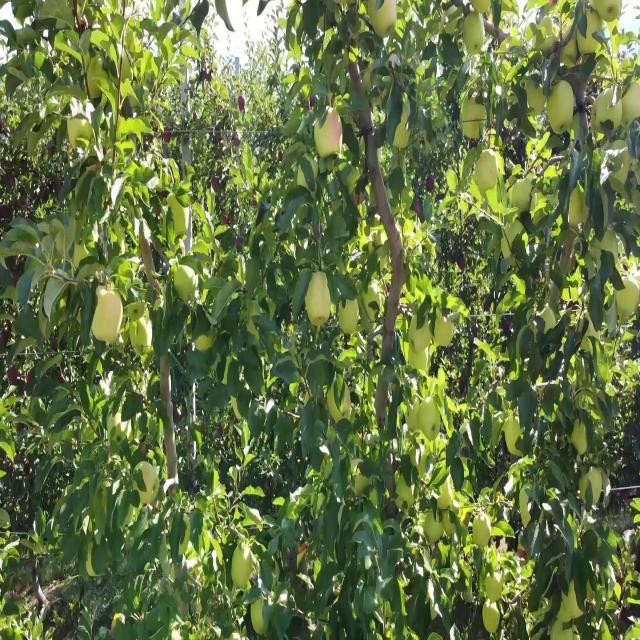apple: (92, 284, 124, 341), (304, 277, 336, 327), (548, 85, 576, 135), (316, 113, 344, 160), (476, 149, 504, 194), (592, 99, 615, 144), (232, 547, 256, 590), (580, 14, 603, 57), (608, 149, 632, 190), (372, 0, 397, 39), (468, 7, 490, 50), (464, 14, 485, 57), (560, 583, 583, 622), (616, 284, 640, 320), (560, 35, 583, 71), (568, 191, 589, 228), (176, 270, 198, 304), (140, 469, 159, 508), (132, 312, 151, 350), (340, 298, 360, 334), (436, 312, 456, 348), (72, 241, 95, 272), (564, 583, 583, 619), (540, 21, 557, 57), (624, 85, 640, 123), (328, 391, 347, 423), (528, 85, 547, 116), (72, 120, 92, 149), (440, 476, 456, 512), (252, 604, 268, 638), (605, 7, 622, 36), (396, 120, 411, 151), (572, 426, 588, 455), (484, 604, 500, 633), (196, 334, 216, 356), (560, 14, 575, 41), (472, 0, 492, 18), (396, 14, 408, 41), (140, 348, 156, 368), (88, 540, 96, 578), (344, 334, 359, 354), (472, 177, 483, 204), (488, 191, 500, 215), (360, 1, 370, 18), (4, 327, 12, 347), (212, 177, 221, 194), (12, 369, 20, 384), (96, 362, 104, 377), (60, 298, 68, 313), (112, 618, 117, 633), (28, 376, 33, 384)
